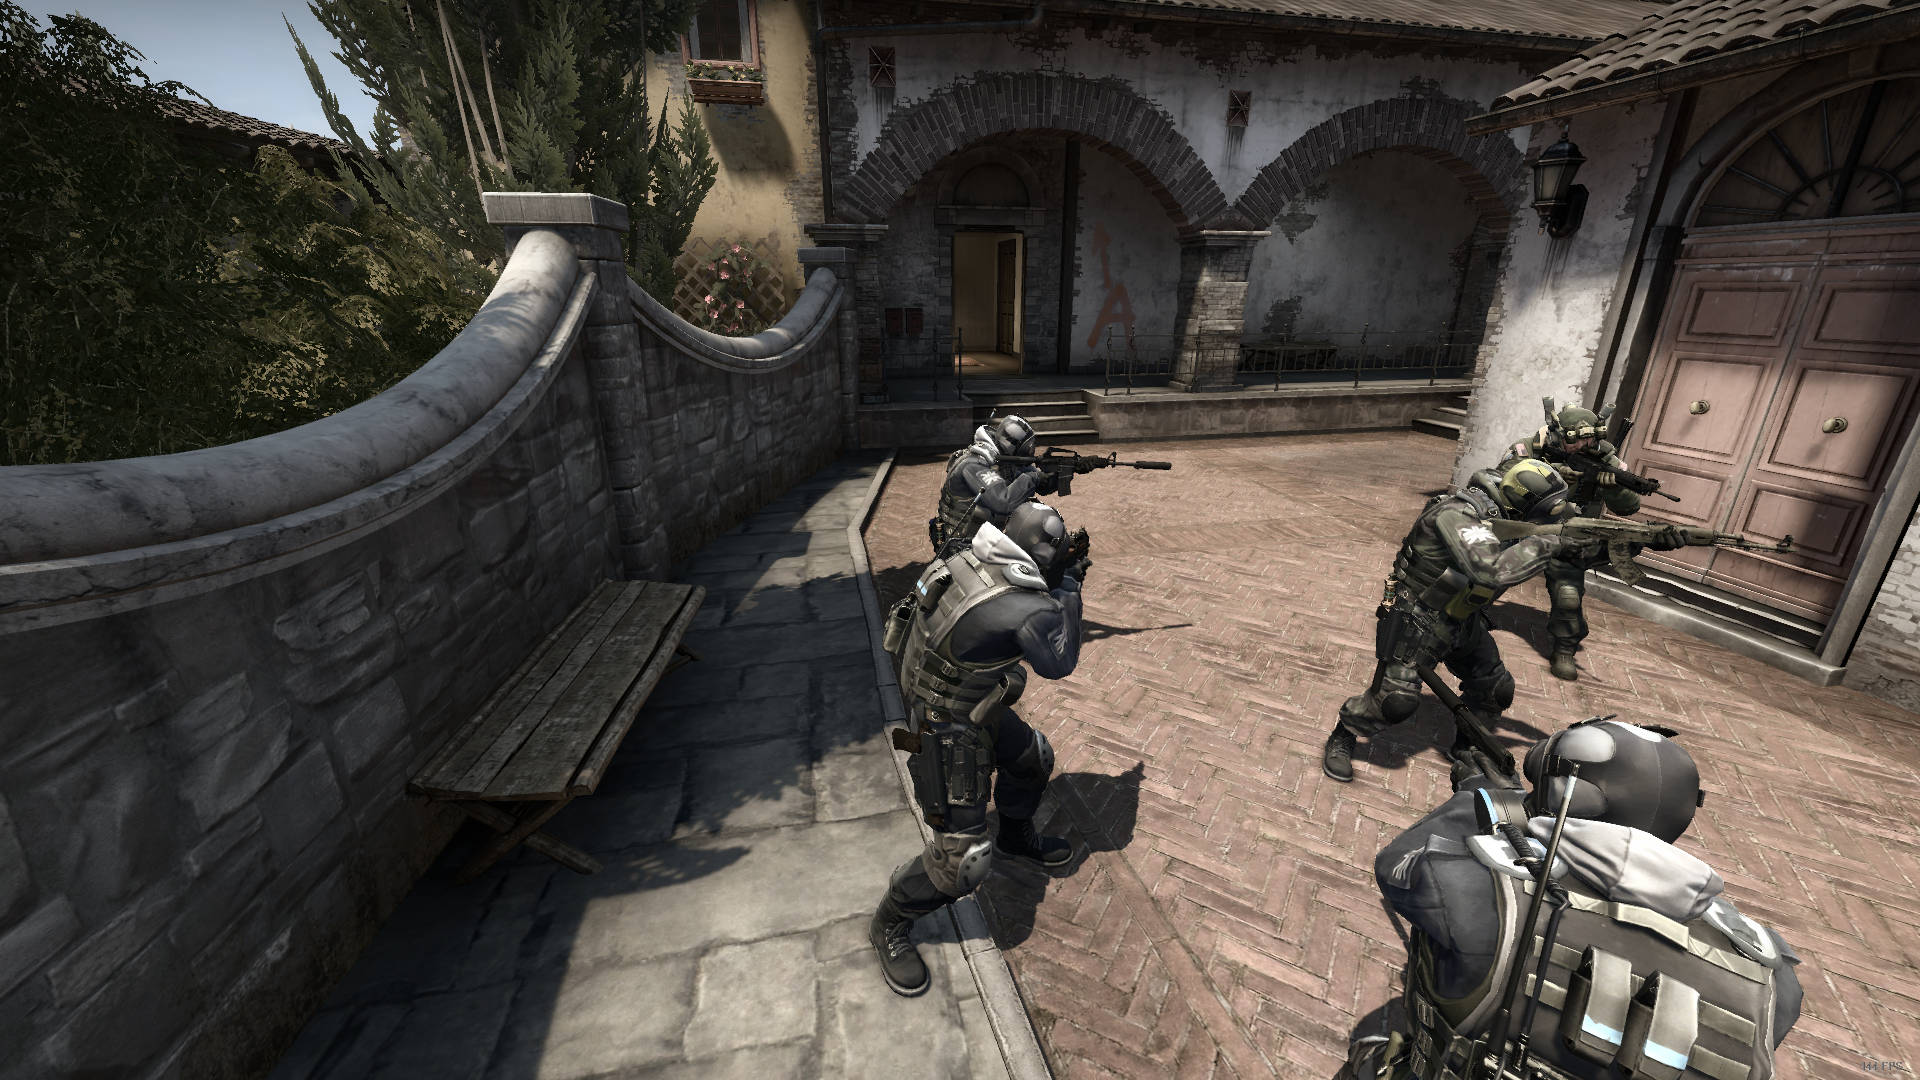ct: (1323, 713, 1826, 1076), (864, 495, 1096, 1004), (930, 413, 1047, 498)
